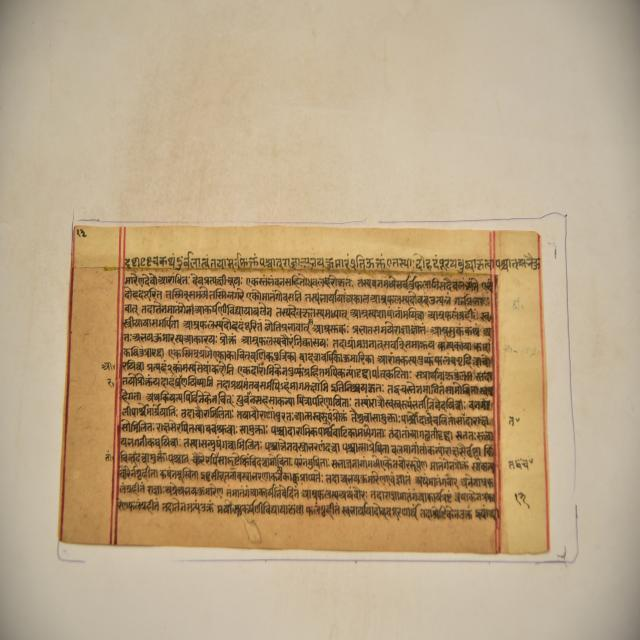text_paragraph: (59, 227, 545, 550)
